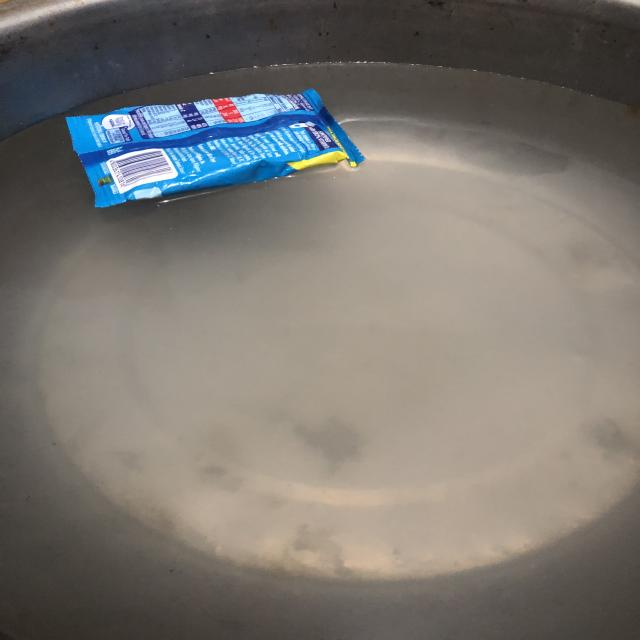Plastic Wrapper: (46, 76, 392, 224)
